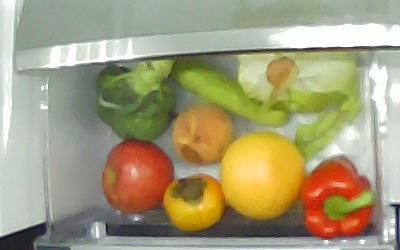apple: (101, 140, 176, 214)
broccoli: (96, 54, 177, 141)
cucumber: (170, 57, 288, 129)
grapefruit: (220, 133, 305, 219)
lettuce: (235, 48, 359, 115)
paprika: (299, 155, 376, 240)
peach: (173, 107, 232, 166)
persimmon: (163, 173, 225, 233)
